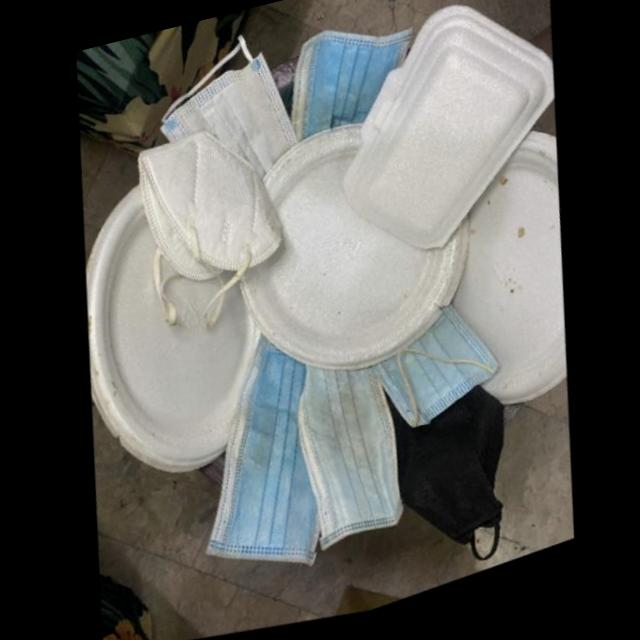khau_trang: (207, 341, 319, 569), (135, 135, 280, 290), (384, 393, 510, 569), (297, 369, 405, 553), (157, 45, 297, 181), (375, 312, 499, 433), (286, 37, 410, 147)
xop: (238, 135, 470, 374), (341, 14, 554, 259), (84, 186, 257, 473), (451, 142, 568, 415)
